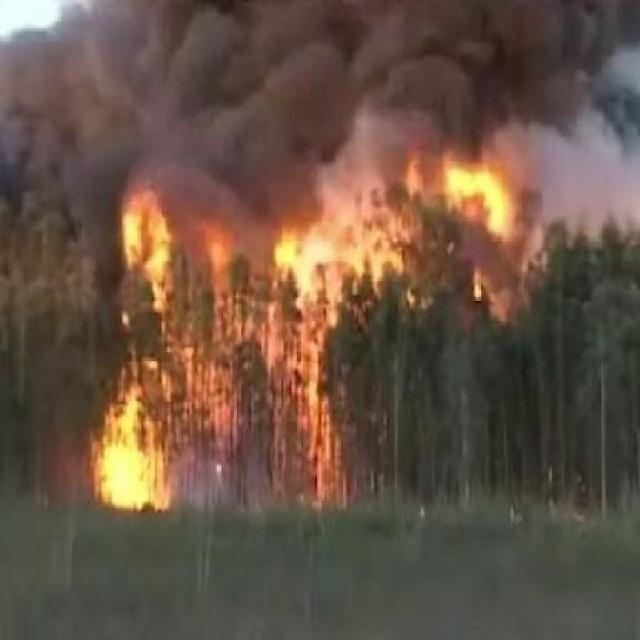Fire: (248, 152, 554, 346), (48, 176, 204, 529)
Smoke: (0, 0, 640, 195)
